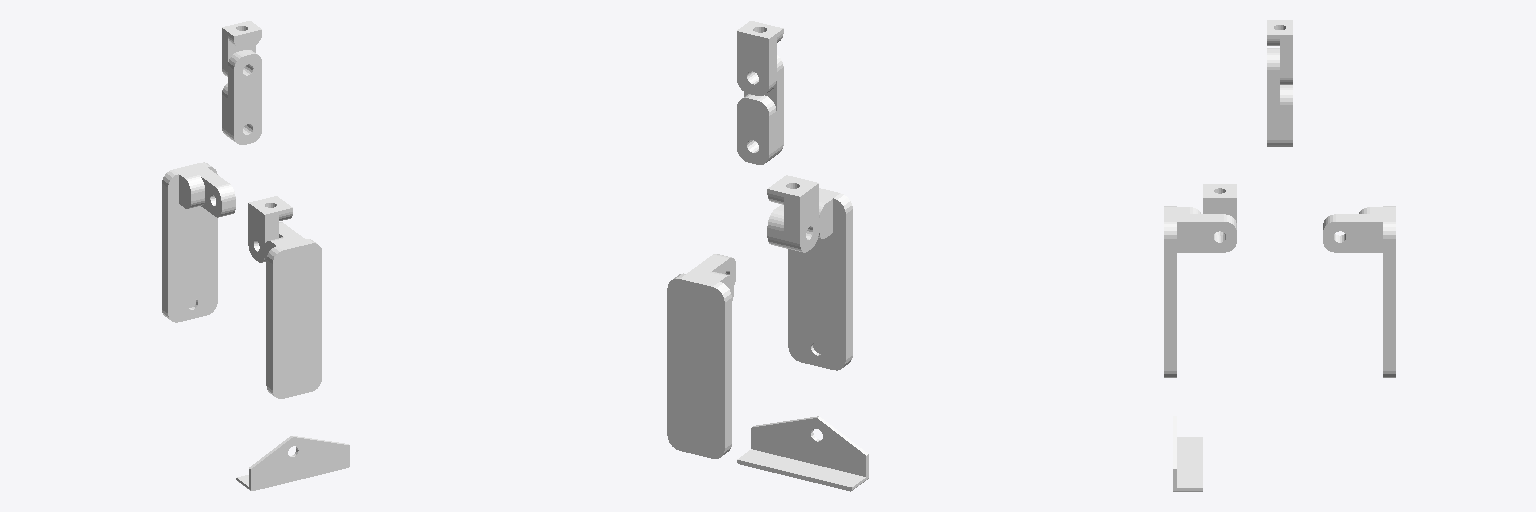
The robot description file, URDF, robot "shi2d2_model":
<?xml version="1.0" encoding="utf-8"?>
<!-- This URDF was automatically created by SolidWorks to URDF Exporter! Originally created by Stephen Brawner (brawner@gmail.com) 
     Commit Version: 1.6.0-4-g7f85cfe  Build Version: 1.6.7995.38578
     For more information, please see http://wiki.ros.org/sw_urdf_exporter -->
<robot
  name="shi2d2_model">
  <link
    name="body_link">
    <inertial>
      <origin
        xyz="-0.13606 0 0.011359"
        rpy="0 0 0" />
      <mass
        value="8.9552" />
      <inertia
        ixx="0.065622"
        ixy="3.076E-18"
        ixz="-0.0026509"
        iyy="0.097234"
        iyz="-9.6882E-19"
        izz="0.092589" />
    </inertial>
    <visual>
      <origin
        xyz="0 0 0"
        rpy="0 0 0" />
      <geometry>
        <mesh
          filename="package://shi2d2_model/meshes/body_link.STL" />
      </geometry>
      <material
        name="">
        <color
          rgba="1 1 1 1" />
      </material>
    </visual>
    <collision>
      <origin
        xyz="0 0 0"
        rpy="0 0 0" />
      <geometry>
        <mesh
          filename="package://shi2d2_model/meshes/body_link.STL" />
      </geometry>
    </collision>
  </link>
  <link
    name="lower_neck_link">
    <inertial>
      <origin
        xyz="-5.5511E-17 -0.0017687 0.031852"
        rpy="0 0 0" />
      <mass
        value="0.10532" />
      <inertia
        ixx="0.00010589"
        ixy="-2.4726E-22"
        ixz="2.1274E-21"
        iyy="0.00011244"
        iyz="7.9535E-06"
        izz="2.1682E-05" />
    </inertial>
    <visual>
      <origin
        xyz="0 0 0"
        rpy="0 0 0" />
      <geometry>
        <mesh
          filename="package://shi2d2_model/meshes/lower_neck_link.STL" />
      </geometry>
      <material
        name="">
        <color
          rgba="1 1 1 1" />
      </material>
    </visual>
    <collision>
      <origin
        xyz="0 0 0"
        rpy="0 0 0" />
      <geometry>
        <mesh
          filename="package://shi2d2_model/meshes/lower_neck_link.STL" />
      </geometry>
    </collision>
  </link>
  <joint
    name="lower_neck_body_joint"
    type="revolute">
    <origin
      xyz="-0.11 0 0.09"
      rpy="0 0 0" />
    <parent
      link="body_link" />
    <child
      link="lower_neck_link" />
    <axis
      xyz="0 1 0" />
    <limit
      lower="0"
      upper="0"
      effort="0"
      velocity="0" />
  </joint>
  <link
    name="upper_neck_link">
    <inertial>
      <origin
        xyz="3.20229842643016E-10 0.00456641880555519 0.02102603018183"
        rpy="0 0 0" />
      <mass
        value="0.0458171863418158" />
      <inertia
        ixx="2.15673758568492E-05"
        ixy="1.649532366958E-13"
        ixz="-5.40737714696766E-14"
        iyy="2.52796558598174E-05"
        iyz="2.697546946691E-06"
        izz="9.11330065564873E-06" />
    </inertial>
    <visual>
      <origin
        xyz="0 0 0"
        rpy="0 0 0" />
      <geometry>
        <mesh
          filename="package://shi2d2_model/meshes/upper_neck_link.STL" />
      </geometry>
      <material
        name="">
        <color
          rgba="1 1 1 1" />
      </material>
    </visual>
    <collision>
      <origin
        xyz="0 0 0"
        rpy="0 0 0" />
      <geometry>
        <mesh
          filename="package://shi2d2_model/meshes/upper_neck_link.STL" />
      </geometry>
    </collision>
  </link>
  <joint
    name="upper_neck_lower_neck_joint"
    type="revolute">
    <origin
      xyz="0 0 0.08"
      rpy="0 0 0" />
    <parent
      link="lower_neck_link" />
    <child
      link="upper_neck_link" />
    <axis
      xyz="0 -1 0" />
    <limit
      lower="0"
      upper="0"
      effort="0"
      velocity="0" />
  </joint>
  <link
    name="head_link">
    <inertial>
      <origin
        xyz="0.00500336825963593 0 0.0238221948814875"
        rpy="0 0 0" />
      <mass
        value="2.67569751121501" />
      <inertia
        ixx="0.0105939643420427"
        ixy="6.16157394984149E-21"
        ixz="1.69633975914199E-07"
        iyy="0.0144986067494668"
        iyz="8.93711263768297E-19"
        izz="0.0239858417124271" />
    </inertial>
    <visual>
      <origin
        xyz="0 0 0"
        rpy="0 0 0" />
      <geometry>
        <mesh
          filename="package://shi2d2_model/meshes/head_link.STL" />
      </geometry>
      <material
        name="">
        <color
          rgba="1 1 1 1" />
      </material>
    </visual>
    <collision>
      <origin
        xyz="0 0 0"
        rpy="0 0 0" />
      <geometry>
        <mesh
          filename="package://shi2d2_model/meshes/head_link.STL" />
      </geometry>
    </collision>
  </link>
  <joint
    name="head_upper_neck_joint"
    type="revolute">
    <origin
      xyz="0 0 0.05"
      rpy="0 0 0" />
    <parent
      link="upper_neck_link" />
    <child
      link="head_link" />
    <axis
      xyz="0 0 1" />
    <limit
      lower="0"
      upper="0"
      effort="0"
      velocity="0" />
  </joint>
  <link
    name="left_upper_hip_link">
    <inertial>
      <origin
        xyz="-0.0059712 3.2849E-10 -0.028608"
        rpy="0 0 0" />
      <mass
        value="0.062291" />
      <inertia
        ixx="3.4187E-05"
        ixy="-3.0119E-13"
        ixz="-4.9318E-06"
        iyy="3.2134E-05"
        iyz="-6.12E-14"
        izz="1.5082E-05" />
    </inertial>
    <visual>
      <origin
        xyz="0 0 0"
        rpy="0 0 0" />
      <geometry>
        <mesh
          filename="package://shi2d2_model/meshes/left_upper_hip_link.STL" />
      </geometry>
      <material
        name="">
        <color
          rgba="1 1 1 1" />
      </material>
    </visual>
    <collision>
      <origin
        xyz="0 0 0"
        rpy="0 0 0" />
      <geometry>
        <mesh
          filename="package://shi2d2_model/meshes/left_upper_hip_link.STL" />
      </geometry>
    </collision>
  </link>
  <joint
    name="left_upper_hip_body_joint"
    type="revolute">
    <origin
      xyz="-0.11 0.07 0.01"
      rpy="0 0 0" />
    <parent
      link="body_link" />
    <child
      link="left_upper_hip_link" />
    <axis
      xyz="0 0 -1" />
    <limit
      lower="0"
      upper="0"
      effort="0"
      velocity="0" />
  </joint>
  <link
    name="left_lower_hip_link">
    <inertial>
      <origin
        xyz="0.00412136847671674 0.022089432822315 0"
        rpy="0 0 0" />
      <mass
        value="0.0704499551399887" />
      <inertia
        ixx="3.56894011174932E-05"
        ixy="5.62565383061564E-06"
        ixz="-2.69628121776985E-21"
        iyy="1.82818834853739E-05"
        iyz="2.72719105860249E-21"
        izz="3.4660829170683E-05" />
    </inertial>
    <visual>
      <origin
        xyz="0 0 0"
        rpy="0 0 0" />
      <geometry>
        <mesh
          filename="package://shi2d2_model/meshes/left_lower_hip_link.STL" />
      </geometry>
      <material
        name="">
        <color
          rgba="1 1 1 1" />
      </material>
    </visual>
    <collision>
      <origin
        xyz="0 0 0"
        rpy="0 0 0" />
      <geometry>
        <mesh
          filename="package://shi2d2_model/meshes/left_lower_hip_link.STL" />
      </geometry>
    </collision>
  </link>
  <joint
    name="left_lower_hip_left_upper_hip_joint"
    type="revolute">
    <origin
      xyz="0 0 -0.05"
      rpy="0 0 0" />
    <parent
      link="left_upper_hip_link" />
    <child
      link="left_lower_hip_link" />
    <axis
      xyz="-1 0 0" />
    <limit
      lower="0"
      upper="0"
      effort="0"
      velocity="0" />
  </joint>
  <link
    name="left_upper_leg_link">
    <inertial>
      <origin
        xyz="-5.55111512312578E-17 0.00754303064725609 -0.08"
        rpy="0 0 0" />
      <mass
        value="0.209442443924986" />
      <inertia
        ixx="0.000678723340344466"
        ixy="-2.43078723425231E-23"
        ixz="3.37489689921635E-21"
        iyy="0.000759267918622434"
        iyz="-1.50123494551635E-21"
        izz="8.83678528228141E-05" />
    </inertial>
    <visual>
      <origin
        xyz="0 0 0"
        rpy="0 0 0" />
      <geometry>
        <mesh
          filename="package://shi2d2_model/meshes/left_upper_leg_link.STL" />
      </geometry>
      <material
        name="">
        <color
          rgba="1 1 1 1" />
      </material>
    </visual>
    <collision>
      <origin
        xyz="0 0 0"
        rpy="0 0 0" />
      <geometry>
        <mesh
          filename="package://shi2d2_model/meshes/left_upper_leg_link.STL" />
      </geometry>
    </collision>
  </link>
  <joint
    name="left_upper_leg_left_lower_hip_joint"
    type="revolute">
    <origin
      xyz="0 0.05 0"
      rpy="0 0 0" />
    <parent
      link="left_lower_hip_link" />
    <child
      link="left_upper_leg_link" />
    <axis
      xyz="0 1 0" />
    <limit
      lower="0"
      upper="0"
      effort="0"
      velocity="0" />
  </joint>
  <link
    name="left_lower_leg_link">
    <inertial>
      <origin
        xyz="0 0 -0.05"
        rpy="0 0 0" />
      <mass
        value="0.0987374663549916" />
      <inertia
        ixx="0.000150036380523695"
        ixy="-3.29579775314078E-24"
        ixz="-8.43724224804088E-22"
        iyy="0.000169013093769857"
        iyz="-2.25432566314841E-22"
        izz="2.26793682344739E-05" />
    </inertial>
    <visual>
      <origin
        xyz="0 0 0"
        rpy="0 0 0" />
      <geometry>
        <mesh
          filename="package://shi2d2_model/meshes/left_lower_leg_link.STL" />
      </geometry>
      <material
        name="">
        <color
          rgba="1 1 1 1" />
      </material>
    </visual>
    <collision>
      <origin
        xyz="0 0 0"
        rpy="0 0 0" />
      <geometry>
        <mesh
          filename="package://shi2d2_model/meshes/left_lower_leg_link.STL" />
      </geometry>
    </collision>
  </link>
  <joint
    name="left_lower_leg_left_upper_leg_joint"
    type="revolute">
    <origin
      xyz="0 -0.0075 -0.16"
      rpy="0 0 0" />
    <parent
      link="left_upper_leg_link" />
    <child
      link="left_lower_leg_link" />
    <axis
      xyz="0 1 0" />
    <limit
      lower="0"
      upper="0"
      effort="0"
      velocity="0" />
  </joint>
  <link
    name="left_foot_link">
    <inertial>
      <origin
        xyz="0.0094925 -0.0046106 -0.025411"
        rpy="0 0 0" />
      <mass
        value="0.052587" />
      <inertia
        ixx="1.7182E-05"
        ixy="1.8977E-07"
        ixz="8.5667E-07"
        iyy="9.0114E-05"
        iyz="-4.5184E-06"
        izz="8.4037E-05" />
    </inertial>
    <visual>
      <origin
        xyz="0 0 0"
        rpy="0 0 0" />
      <geometry>
        <mesh
          filename="package://shi2d2_model/meshes/left_foot_link.STL" />
      </geometry>
      <material
        name="">
        <color
          rgba="1 1 1 1" />
      </material>
    </visual>
    <collision>
      <origin
        xyz="0 0 0"
        rpy="0 0 0" />
      <geometry>
        <mesh
          filename="package://shi2d2_model/meshes/left_foot_link.STL" />
      </geometry>
    </collision>
  </link>
  <joint
    name="left_foot_left_lower_leg_joint"
    type="revolute">
    <origin
      xyz="0 0.0075 -0.1"
      rpy="0 0 0" />
    <parent
      link="left_lower_leg_link" />
    <child
      link="left_foot_link" />
    <axis
      xyz="0 1 0" />
    <limit
      lower="0"
      upper="0"
      effort="0"
      velocity="0" />
  </joint>
  <link
    name="right_upper_hip_link">
    <inertial>
      <origin
        xyz="0 0 0"
        rpy="0 0 0" />
      <mass
        value="0" />
      <inertia
        ixx="0"
        ixy="0"
        ixz="0"
        iyy="0"
        iyz="0"
        izz="0" />
    </inertial>
    <visual>
      <origin
        xyz="0 0 0"
        rpy="0 0 0" />
      <geometry>
        <mesh
          filename="package://shi2d2_model/meshes/right_upper_hip_link.STL" />
      </geometry>
      <material
        name="">
        <color
          rgba="1 1 1 1" />
      </material>
    </visual>
    <collision>
      <origin
        xyz="0 0 0"
        rpy="0 0 0" />
      <geometry>
        <mesh
          filename="package://shi2d2_model/meshes/right_upper_hip_link.STL" />
      </geometry>
    </collision>
  </link>
  <joint
    name="right_upper_hip_body_joint"
    type="revolute">
    <origin
      xyz="-0.11 -0.07 0.01"
      rpy="0 0 0" />
    <parent
      link="body_link" />
    <child
      link="right_upper_hip_link" />
    <axis
      xyz="0 0 -1" />
    <limit
      lower="0"
      upper="0"
      effort="0"
      velocity="0" />
  </joint>
  <link
    name="right_lower_hip_link">
    <inertial>
      <origin
        xyz="0.00412136847671674 -0.022089432822315 0"
        rpy="0 0 0" />
      <mass
        value="0.0704499551399887" />
      <inertia
        ixx="3.56894011174933E-05"
        ixy="-5.62565383061564E-06"
        ixz="2.92248216211112E-21"
        iyy="1.82818834853739E-05"
        iyz="-1.81331094631583E-21"
        izz="3.4660829170683E-05" />
    </inertial>
    <visual>
      <origin
        xyz="0 0 0"
        rpy="0 0 0" />
      <geometry>
        <mesh
          filename="package://shi2d2_model/meshes/right_lower_hip_link.STL" />
      </geometry>
      <material
        name="">
        <color
          rgba="1 1 1 1" />
      </material>
    </visual>
    <collision>
      <origin
        xyz="0 0 0"
        rpy="0 0 0" />
      <geometry>
        <mesh
          filename="package://shi2d2_model/meshes/right_lower_hip_link.STL" />
      </geometry>
    </collision>
  </link>
  <joint
    name="right_lower_hip_right_upper_hip_joint"
    type="revolute">
    <origin
      xyz="0 0 -0.05"
      rpy="0 0 0" />
    <parent
      link="right_upper_hip_link" />
    <child
      link="right_lower_hip_link" />
    <axis
      xyz="-1 0 0" />
    <limit
      lower="0"
      upper="0"
      effort="0"
      velocity="0" />
  </joint>
  <link
    name="right_upper_leg_link">
    <inertial>
      <origin
        xyz="-5.55111512312578E-17 -0.00754303064725607 -0.08"
        rpy="0 0 0" />
      <mass
        value="0.209442443924986" />
      <inertia
        ixx="0.000678723340344465"
        ixy="-3.20701870548828E-21"
        ixz="-2.49104056566088E-21"
        iyy="0.000759267918622433"
        iyz="1.73097682375832E-20"
        izz="8.83678528228138E-05" />
    </inertial>
    <visual>
      <origin
        xyz="0 0 0"
        rpy="0 0 0" />
      <geometry>
        <mesh
          filename="package://shi2d2_model/meshes/right_upper_leg_link.STL" />
      </geometry>
      <material
        name="">
        <color
          rgba="1 1 1 1" />
      </material>
    </visual>
    <collision>
      <origin
        xyz="0 0 0"
        rpy="0 0 0" />
      <geometry>
        <mesh
          filename="package://shi2d2_model/meshes/right_upper_leg_link.STL" />
      </geometry>
    </collision>
  </link>
  <joint
    name="right_upper_leg_right_lower_hip_joint"
    type="revolute">
    <origin
      xyz="0 -0.05 0"
      rpy="0 0 0" />
    <parent
      link="right_lower_hip_link" />
    <child
      link="right_upper_leg_link" />
    <axis
      xyz="0 -1 0" />
    <limit
      lower="0"
      upper="0"
      effort="0"
      velocity="0" />
  </joint>
  <link
    name="right_lower_leg_link">
    <inertial>
      <origin
        xyz="0 0 -0.05"
        rpy="0 0 0" />
      <mass
        value="0.0987374663549914" />
      <inertia
        ixx="0.000150036380523695"
        ixy="1.15120018318712E-22"
        ixz="-1.68744844960818E-21"
        iyy="0.000169013093769857"
        iyz="3.96991372186093E-22"
        izz="2.26793682344739E-05" />
    </inertial>
    <visual>
      <origin
        xyz="0 0 0"
        rpy="0 0 0" />
      <geometry>
        <mesh
          filename="package://shi2d2_model/meshes/right_lower_leg_link.STL" />
      </geometry>
      <material
        name="">
        <color
          rgba="1 1 1 1" />
      </material>
    </visual>
    <collision>
      <origin
        xyz="0 0 0"
        rpy="0 0 0" />
      <geometry>
        <mesh
          filename="package://shi2d2_model/meshes/right_lower_leg_link.STL" />
      </geometry>
    </collision>
  </link>
  <joint
    name="right_lower_leg_right_upper_leg_joint"
    type="revolute">
    <origin
      xyz="0 0.0075 -0.16"
      rpy="0 0 0" />
    <parent
      link="right_upper_leg_link" />
    <child
      link="right_lower_leg_link" />
    <axis
      xyz="0 1 0" />
    <limit
      lower="0"
      upper="0"
      effort="0"
      velocity="0" />
  </joint>
  <link
    name="right_foot_link">
    <inertial>
      <origin
        xyz="0.00949251107823679 0.0046106421166239 -0.0254114884788728"
        rpy="0 0 0" />
      <mass
        value="0.0525874653229678" />
      <inertia
        ixx="1.71819053805558E-05"
        ixy="-1.89765660216749E-07"
        ixz="8.566705237295E-07"
        iyy="9.01135527083E-05"
        iyz="4.51837724189974E-06"
        izz="8.40366490851664E-05" />
    </inertial>
    <visual>
      <origin
        xyz="0 0 0"
        rpy="0 0 0" />
      <geometry>
        <mesh
          filename="package://shi2d2_model/meshes/right_foot_link.STL" />
      </geometry>
      <material
        name="">
        <color
          rgba="1 1 1 1" />
      </material>
    </visual>
    <collision>
      <origin
        xyz="0 0 0"
        rpy="0 0 0" />
      <geometry>
        <mesh
          filename="package://shi2d2_model/meshes/right_foot_link.STL" />
      </geometry>
    </collision>
  </link>
  <joint
    name="right_foot_right_lower_leg_joint"
    type="revolute">
    <origin
      xyz="0 -0.0075 -0.1"
      rpy="0 0 0" />
    <parent
      link="right_lower_leg_link" />
    <child
      link="right_foot_link" />
    <axis
      xyz="0 1 0" />
    <limit
      lower="0"
      upper="0"
      effort="0"
      velocity="0" />
  </joint>
</robot>

--- Render facts (derived) ---
Views: 3 orthographic renders of the robot side by side, from view 1: azimuth 30°, elevation 25°; view 2: azimuth 150°, elevation 25°; view 3: azimuth 270°, elevation 25°.
Robot: shi2d2_model — 14 links, 13 joints (13 revolute); root link body_link; default pose: all joints at 0.
Links seen in each view (by area): view 1: right_upper_leg_link, left_upper_leg_link, right_foot_link, lower_neck_link, left_lower_hip_link, right_upper_hip_link, upper_neck_link; view 2: left_upper_leg_link, right_upper_leg_link, right_foot_link, lower_neck_link, right_upper_hip_link, upper_neck_link, right_lower_hip_link, left_lower_hip_link; view 3: right_lower_hip_link, left_lower_hip_link, left_upper_leg_link, right_upper_leg_link, lower_neck_link, right_foot_link, upper_neck_link, right_upper_hip_link.
Link boxes in pixels (x1,y1,x2,y2): right_upper_leg_link: [266, 239, 321, 398]; left_upper_leg_link: [162, 162, 217, 322]; right_foot_link: [236, 436, 349, 490]; lower_neck_link: [222, 50, 261, 144]; left_lower_hip_link: [179, 167, 235, 217]; right_upper_hip_link: [248, 196, 292, 262]; upper_neck_link: [222, 21, 261, 76]; left_upper_leg_link: [667, 273, 731, 458]; right_upper_leg_link: [788, 188, 852, 370]; right_foot_link: [737, 416, 868, 491]; lower_neck_link: [737, 55, 783, 164]; right_upper_hip_link: [767, 175, 818, 252]; upper_neck_link: [737, 21, 783, 95]; right_lower_hip_link: [767, 195, 832, 248]; left_lower_hip_link: [687, 254, 735, 300]; right_lower_hip_link: [1177, 207, 1236, 252]; left_lower_hip_link: [1323, 207, 1382, 252]; left_upper_leg_link: [1383, 206, 1395, 377]; right_upper_leg_link: [1164, 206, 1176, 377]; lower_neck_link: [1267, 48, 1292, 146]; right_foot_link: [1173, 416, 1202, 491]; upper_neck_link: [1267, 20, 1292, 84]; right_upper_hip_link: [1203, 184, 1236, 235].
Size in the robot's own frame: 0.14 by 0.27 by 0.56 metres.
8 mesh visuals loaded from 14 distinct referenced files (8 binary STL); not drawn: 6 (file found but could not be loaded).
